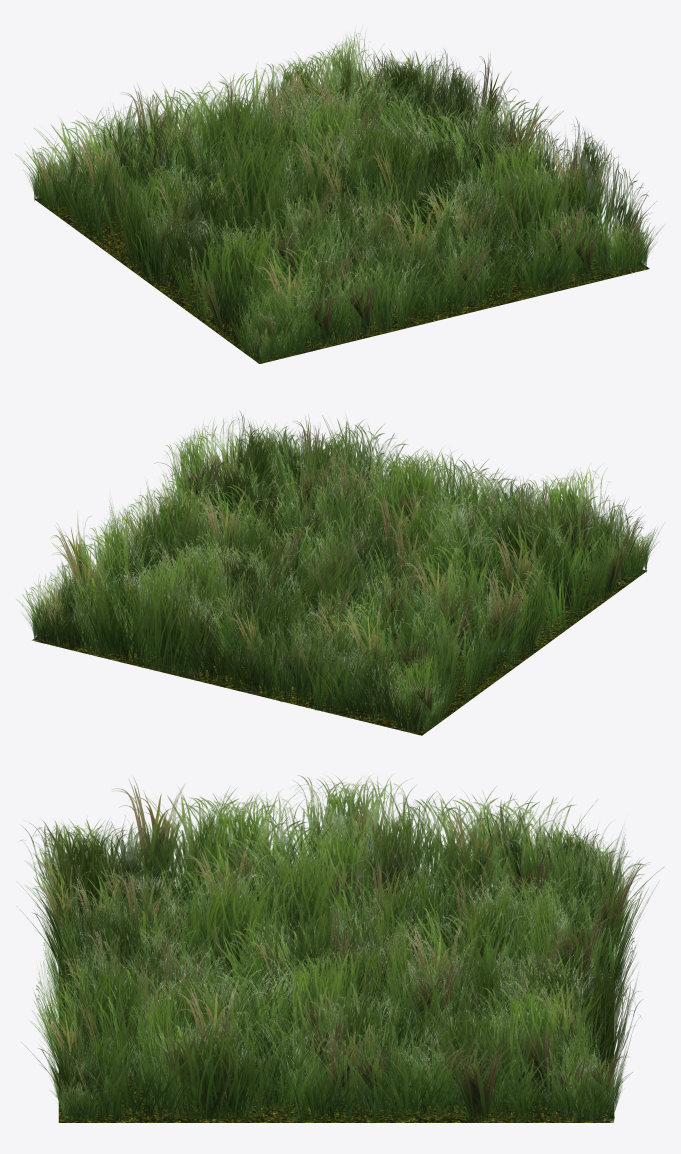
File: grass.glb
3 views of the same model, one above another, from view 1: azimuth 30°, elevation 25°; view 2: azimuth 150°, elevation 25°; view 3: azimuth 270°, elevation 25° (orthographic). The views are drawn at different scales.
Visible parts, largest first — view 1: grass_1mx1m; view 2: grass_1mx1m; view 3: grass_1mx1m.
Boxes of the visible parts, box(x1,y1,x2,y2) form: grass_1mx1m: box(15, 32, 664, 363); grass_1mx1m: box(16, 412, 659, 735); grass_1mx1m: box(20, 774, 663, 1123).
Bounding box in the file's own units: 1.16 × 0.2204 × 1.18.
Materials: 1 (1 with a texture image).
